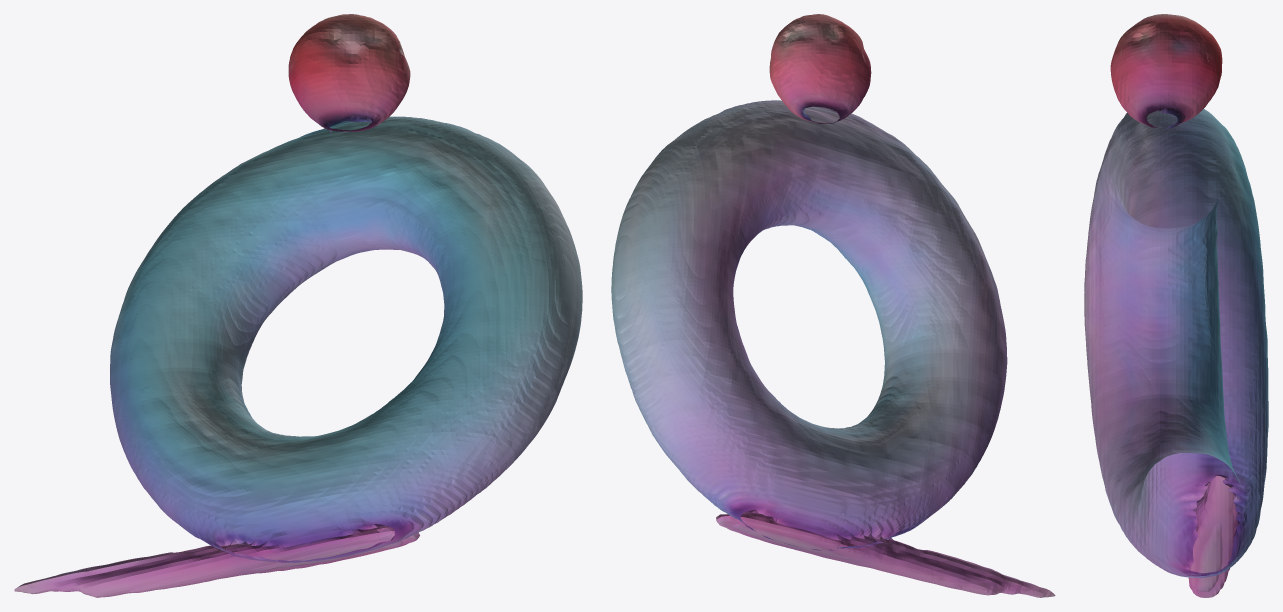
3 renders of one model, left to right at view 1: azimuth 30°, elevation 25°; view 2: azimuth 150°, elevation 25°; view 3: azimuth 270°, elevation 25°, orthographic. The views are drawn at different scales.
Parts seen in each view (by area): view 1: geometry_0; view 2: geometry_0; view 3: geometry_0.
Part boxes in pixels (x1,y1,x2,y2): geometry_0: (14, 14, 582, 597); geometry_0: (611, 14, 1055, 597); geometry_0: (1084, 14, 1268, 597).
Size of the model in its own units: 1.55 by 1.6 by 0.4946.
